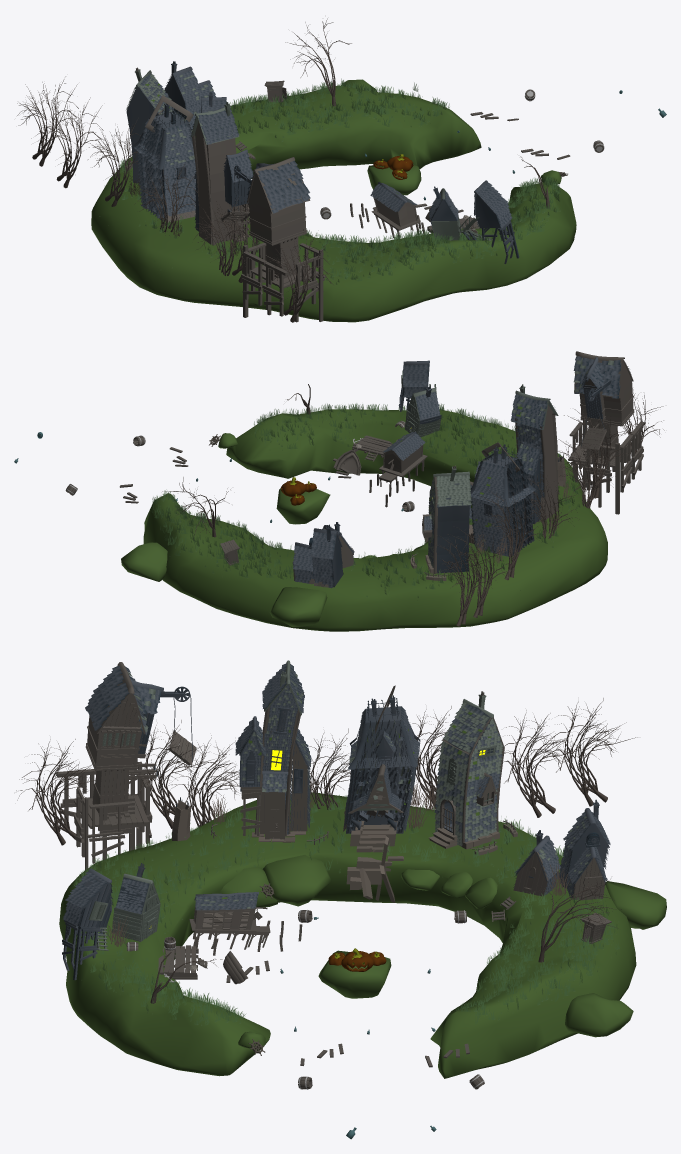
File: mist_village.glb
3 views of the same model, one above another, from view 1: azimuth 30°, elevation 25°; view 2: azimuth 150°, elevation 25°; view 3: azimuth 270°, elevation 25° (orthographic). The views are drawn at different scales.
Visible parts, largest first — view 1: MV_paint.001, MV_s, MV_aaaaaaaaaaaaaaaaaaaaaaa.001, MV_saaaaaa, MV_22, MV_s.001, MV_paint, MV_Material.065; view 2: MV_paint.001, MV_s, MV_aaaaaaaaaaaaaaaaaaaaaaa.001, MV_saaaaaa, MV_22, MV_paint, MV_s.001, MV_xeeeee.001, MV_Material.065, MV_Material.006; view 3: MV_paint.001, MV_s, MV_aaaaaaaaaaaaaaaaaaaaaaa.001, MV_saaaaaa, MV_22, MV_paint, MV_s.001, MV_xeeeee.001, MV_Material.006, MV_Material.065.
Boxes of the visible parts, box(x1,y1,x2,y2) form: MV_paint.001: box(91, 85, 576, 322); MV_s: box(126, 61, 519, 263); MV_aaaaaaaaaaaaaaaaaaaaaaa.001: box(127, 80, 603, 322); MV_saaaaaa: box(99, 78, 560, 287); MV_22: box(17, 18, 549, 322); MV_s.001: box(126, 69, 492, 240); MV_paint: box(304, 79, 561, 236); MV_Material.065: box(373, 156, 413, 179); MV_paint.001: box(143, 409, 607, 631); MV_s: box(293, 356, 631, 588); MV_aaaaaaaaaaaaaaaaaaaaaaa.001: box(65, 351, 644, 587); MV_saaaaaa: box(151, 403, 603, 597); MV_22: box(162, 384, 664, 626); MV_paint: box(121, 433, 471, 626); MV_s.001: box(323, 358, 614, 567); MV_xeeeee.001: box(410, 455, 566, 580); MV_Material.065: box(281, 480, 316, 505); MV_Material.006: box(477, 480, 571, 563); MV_paint.001: box(59, 792, 636, 1078); MV_s: box(62, 663, 610, 980); MV_aaaaaaaaaaaaaaaaaaaaaaa.001: box(56, 662, 611, 1089); MV_saaaaaa: box(73, 795, 619, 1025); MV_22: box(16, 698, 637, 1003); MV_paint: box(219, 855, 666, 1049); MV_s.001: box(88, 660, 590, 950); MV_xeeeee.001: box(172, 800, 517, 902); MV_Material.006: box(105, 779, 571, 946); MV_Material.065: box(328, 951, 386, 971).
Size of what is drawn, in the model's own units: 56.37 by 16.8 by 45.86.
20 materials, 3 textured.
